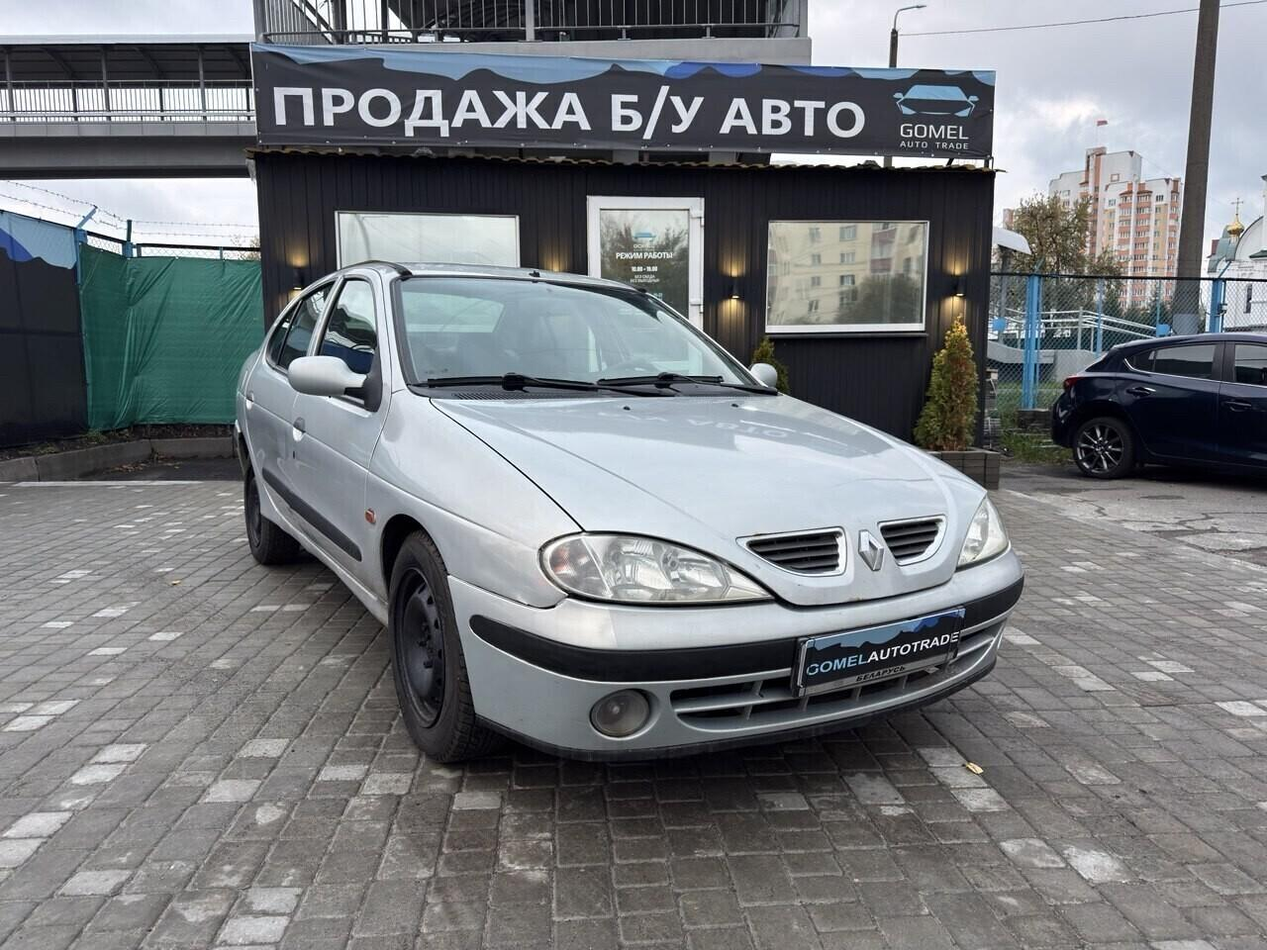Megane_1999-2003: (233, 259, 1013, 769)
